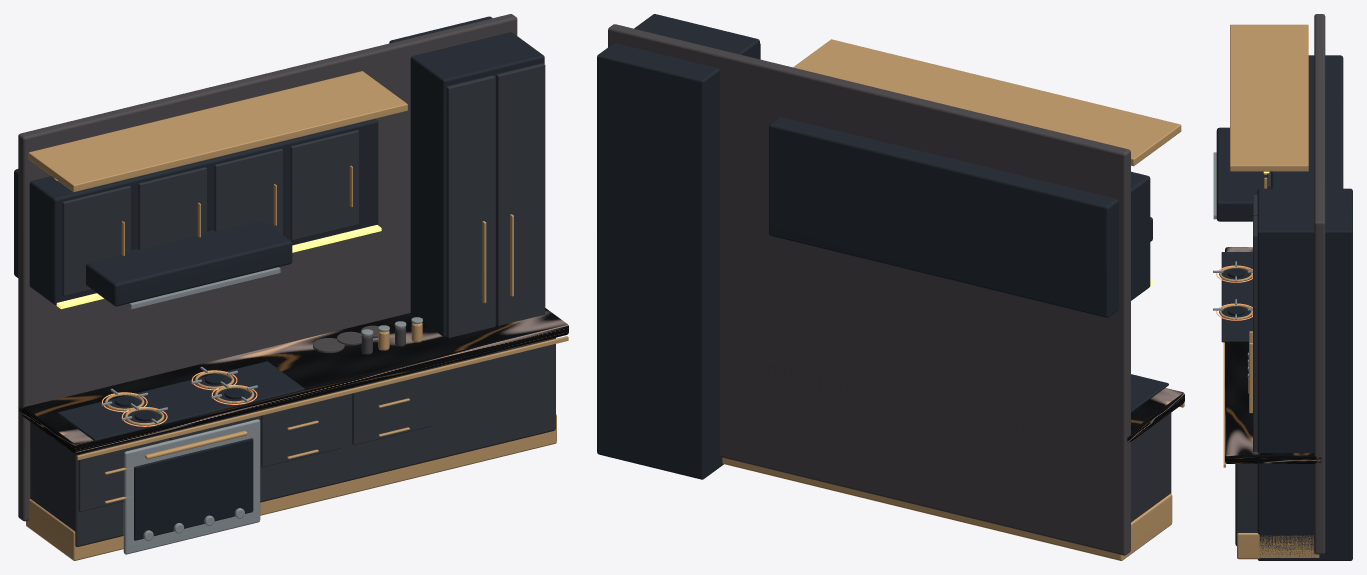
File: reference-kitchen-wall.glb
3 renders of one model, left to right at view 1: azimuth 30°, elevation 25°; view 2: azimuth 150°, elevation 25°; view 3: azimuth 270°, elevation 25°, orthographic. The views are drawn at different scales.
Visible parts, largest first — view 1: Continuous backsplash slab, Lower cabinet housing, Upper illuminated cornice, Nero marble counter slab, Integrated refrigerator cabinet, Refrigerator front -1, Refrigerator front 1, Upper cabinet carcass, Integrated extract hood, Oven glass, Inset cooktop, Upper inset panel 3 (+11 smaller); view 2: Continuous backsplash slab, Integrated refrigerator cabinet, Upper cabinet carcass, Upper illuminated cornice, Lower floating plinth, Lower cabinet housing, Nero marble counter slab, Inset cooktop; view 3: Integrated refrigerator cabinet, Upper illuminated cornice, Continuous backsplash slab, Upper cabinet carcass, Nero marble counter slab, Integrated extract hood, Inset cooktop, Lower floating plinth, Lower cabinet housing, Refrigerator front 1, Refrigerator handle 1, Hood intake (+3 smaller).
Part boxes in pixels (box(x1,y1,x2,y2)): Continuous backsplash slab: box(18, 14, 517, 521); Lower cabinet housing: box(30, 337, 555, 546); Upper illuminated cornice: box(28, 71, 407, 192); Nero marble counter slab: box(19, 308, 568, 454); Integrated refrigerator cabinet: box(389, 16, 544, 336); Refrigerator front -1: box(446, 75, 495, 337); Refrigerator front 1: box(496, 63, 545, 325); Upper cabinet carcass: box(14, 119, 378, 304); Integrated extract hood: box(86, 220, 292, 306); Oven glass: box(134, 438, 253, 540); Inset cooktop: box(58, 361, 304, 441); Upper inset panel 3: box(290, 130, 358, 240); Continuous backsplash slab: box(608, 24, 1130, 555); Integrated refrigerator cabinet: box(597, 14, 759, 479); Upper cabinet carcass: box(769, 117, 1150, 317); Upper illuminated cornice: box(793, 39, 1181, 166); Lower floating plinth: box(722, 457, 1172, 560); Lower cabinet housing: box(720, 352, 1171, 522); Nero marble counter slab: box(1127, 388, 1184, 443); Inset cooktop: box(1131, 374, 1168, 412); Integrated refrigerator cabinet: box(1257, 188, 1352, 560); Upper illuminated cornice: box(1230, 24, 1308, 171); Continuous backsplash slab: box(1314, 14, 1325, 554); Upper cabinet carcass: box(1271, 55, 1343, 188); Nero marble counter slab: box(1225, 247, 1321, 463); Integrated extract hood: box(1216, 127, 1271, 221); Inset cooktop: box(1221, 252, 1252, 342); Lower floating plinth: box(1237, 533, 1319, 559); Lower cabinet housing: box(1235, 464, 1257, 545); Refrigerator front 1: box(1253, 216, 1257, 451); Refrigerator handle 1: box(1249, 343, 1252, 413); Hood intake: box(1213, 152, 1216, 219).
Size of the model in its own units: 3.58 by 2.73 by 1.01.
Materials: 9 (1 with a texture image).
